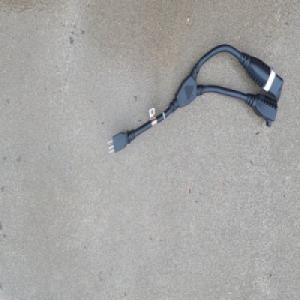Wire: (105, 41, 284, 157)
